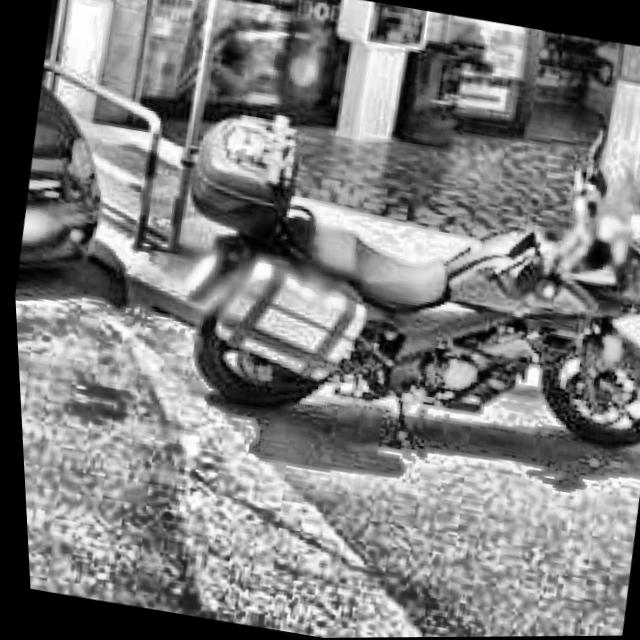motorcycle: (137, 58, 640, 514)
